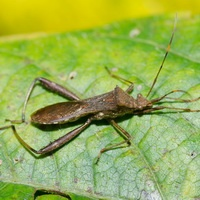insect: (0, 14, 199, 199), (13, 116, 93, 156), (20, 76, 83, 123)
